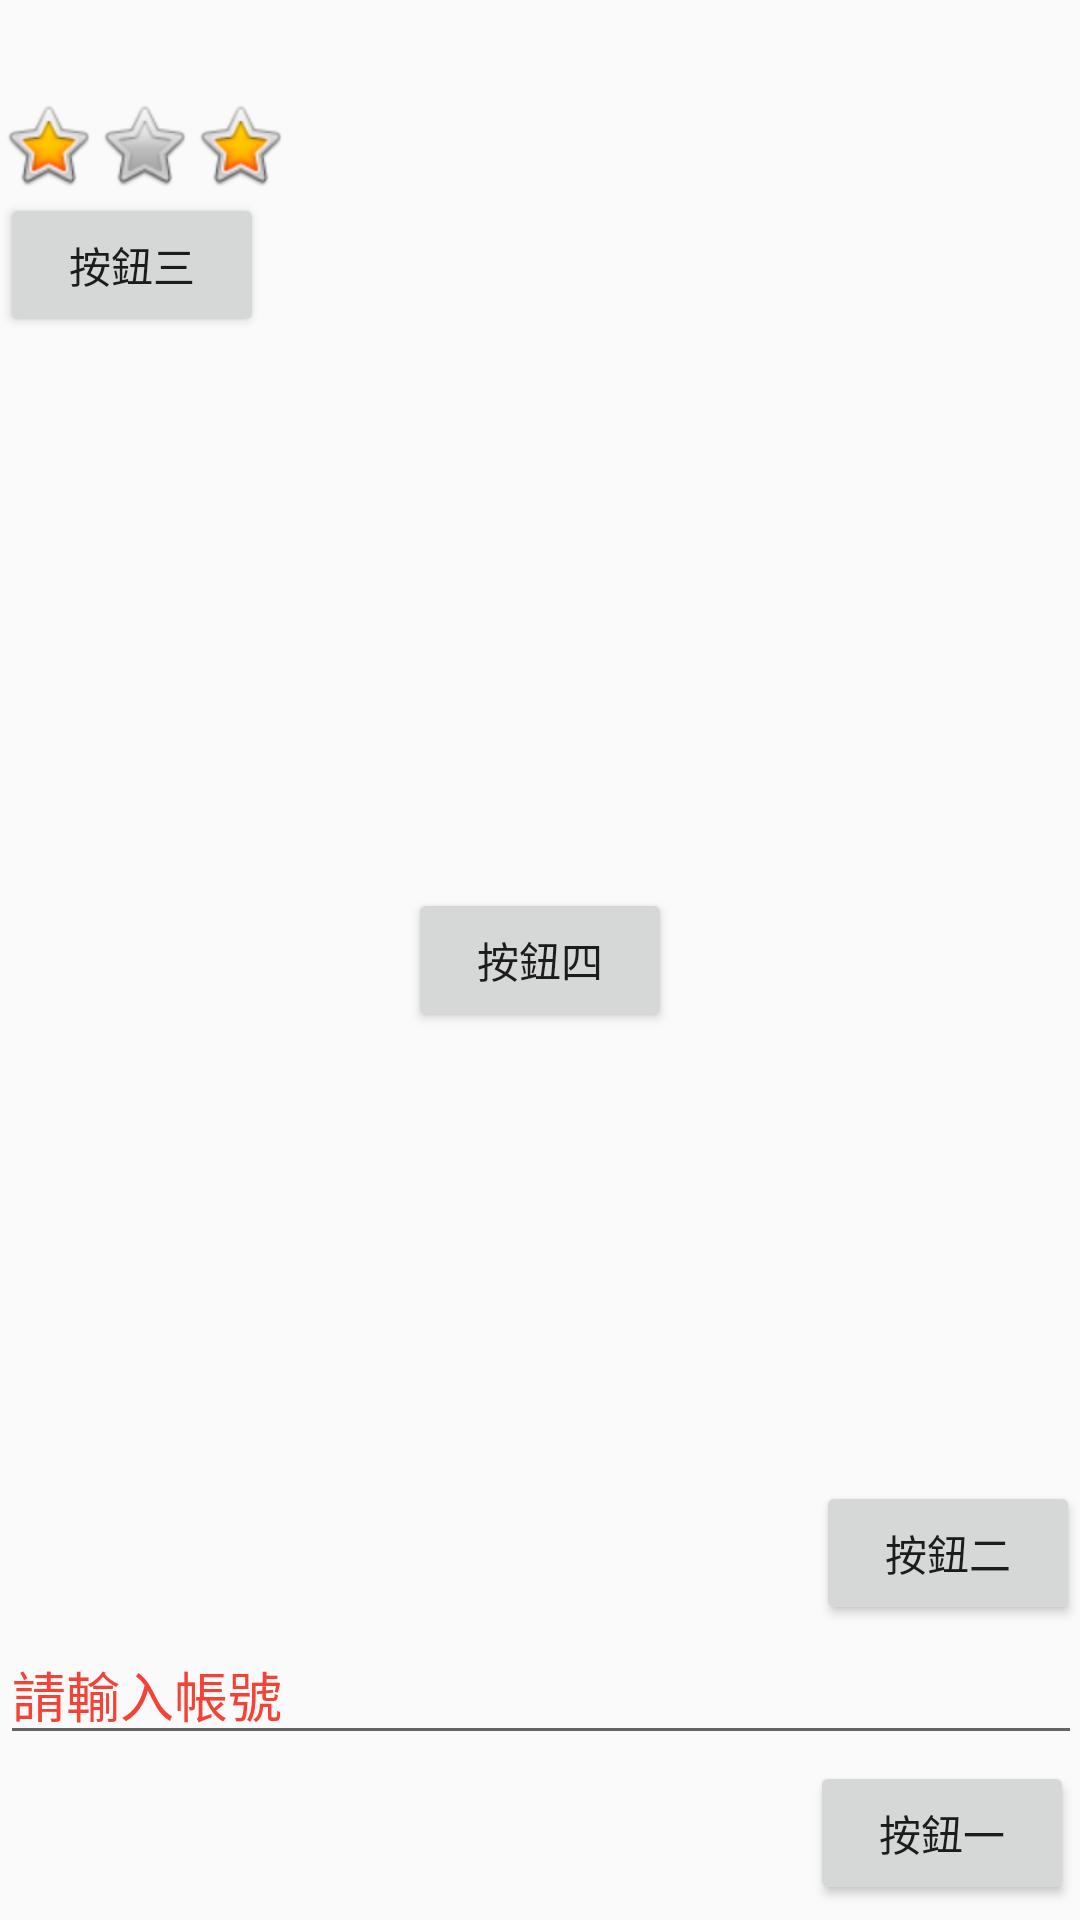

Named icons in this screenshot (1080*1920) and their bounding boxes, {"left": x1, "top": y1, "right": x2, "bottom": y2}:
star off: {"left": 105, "top": 107, "right": 185, "bottom": 185}
star on: {"left": 9, "top": 107, "right": 89, "bottom": 185}, {"left": 201, "top": 107, "right": 281, "bottom": 185}
